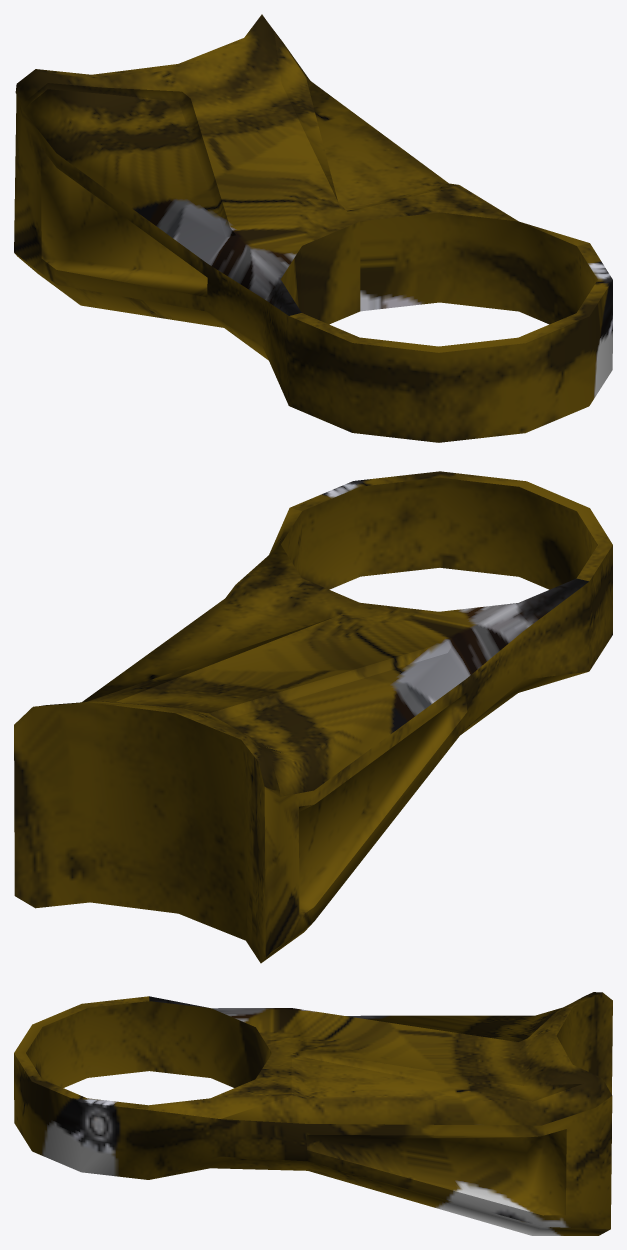
Rendered from holder.fbx.
The picture shows the model from 3 angles, top to bottom: view 1: azimuth 30°, elevation 25°; view 2: azimuth 150°, elevation 25°; view 3: azimuth 270°, elevation 25°; orthographic projection. The views are drawn at different scales.
Parts seen in each view (by area): view 1: holder; view 2: holder; view 3: holder.
Boxes of the visible parts, x1,y1,x2,y2 form: holder: (14,14,612,442); holder: (14,471,612,963); holder: (14,992,612,1235).
Bounding box in the file's own units: 44.44 × 28.83 × 98.79.
